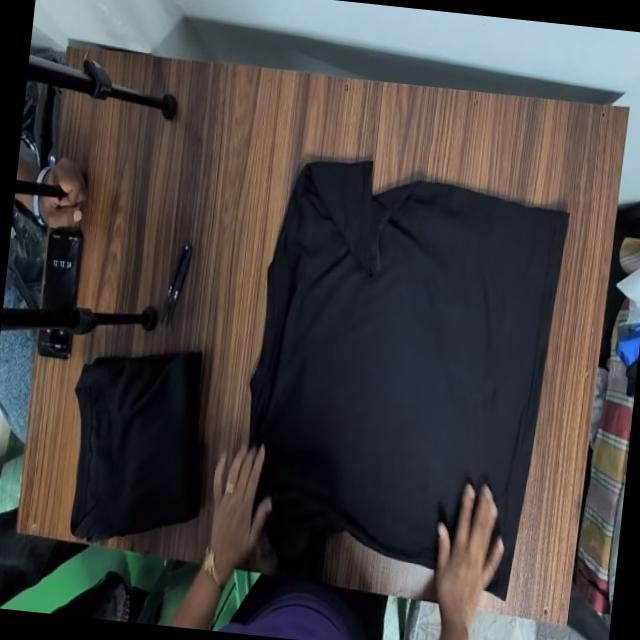new-garment: (249, 160, 567, 597)
